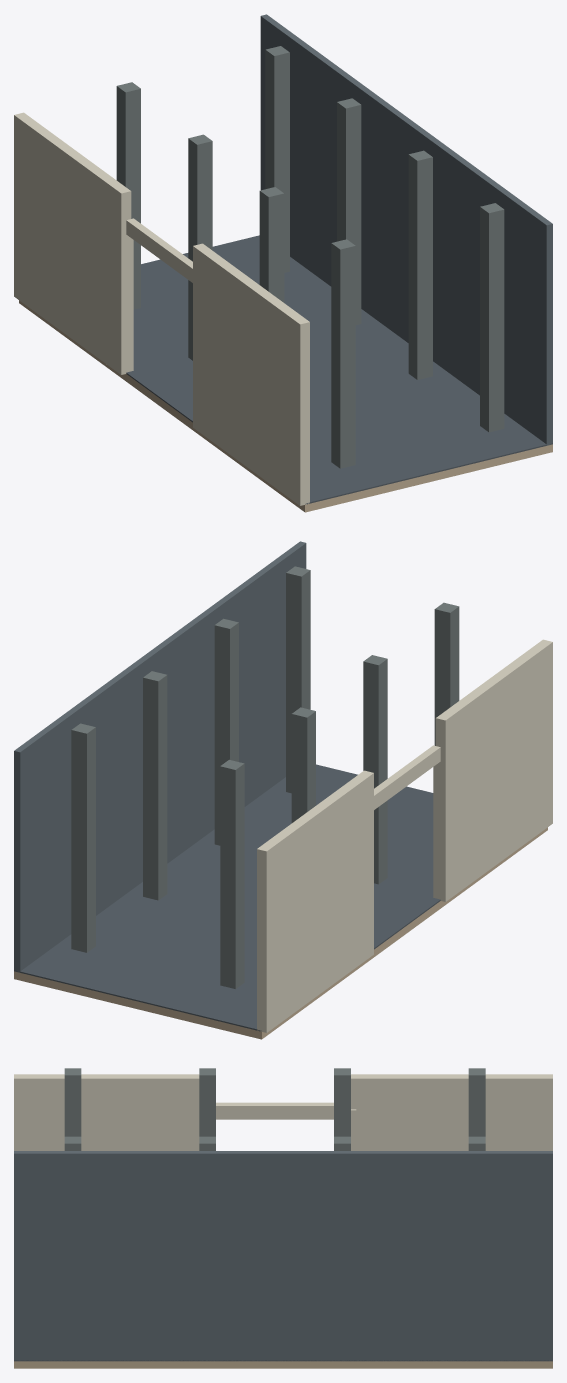
3 renders of one model, top to bottom at view 1: azimuth 30°, elevation 25°; view 2: azimuth 150°, elevation 25°; view 3: azimuth 270°, elevation 25°, orthographic. The views are drawn at different scales.
Parts seen in each view (by area): view 1: REAR_15, COURT_1, PORTW2_3, PORTW1_2, PILLAR_10, PILLAR_14, PILLAR_13, PILLAR_12, PILLAR_11, GROUND_0, PILLAR_7, PILLAR_8 (+3 smaller); view 2: REAR_15, COURT_1, PORTW1_2, PORTW2_3, PILLAR_7, PILLAR_11, PILLAR_12, PILLAR_9, PILLAR_13, PILLAR_14, GROUND_0, PILLAR_10 (+3 smaller); view 3: REAR_15, PORTW1_2, PORTW2_3, GROUND_0, GATE-lintel_6, PILLAR_7, PILLAR_10, PILLAR_8, PILLAR_9, COURT_1.
Part boxes in pixels (x1,y1,x2,y2): REAR_15: (260,14,552,445); COURT_1: (126,235,552,504); PORTW2_3: (193,243,309,505); PORTW1_2: (14,112,131,374); PILLAR_10: (331,239,355,468); PILLAR_14: (480,203,504,432); PILLAR_13: (408,150,432,379); PILLAR_12: (337,98,361,324); PILLAR_11: (265,46,289,272); GROUND_0: (19,300,552,512); PILLAR_7: (116,82,140,309); PILLAR_8: (188,134,212,360); REAR_15: (14,541,306,972); COURT_1: (14,764,440,1031); PORTW1_2: (257,770,373,1032); PORTW2_3: (435,639,552,901); PILLAR_7: (220,759,244,988); PILLAR_11: (71,723,95,952); PILLAR_12: (143,671,167,900); PILLAR_9: (363,655,387,884); PILLAR_13: (214,618,238,845); PILLAR_14: (286,566,310,793); GROUND_0: (14,827,547,1039); PILLAR_10: (434,602,459,745); REAR_15: (14,1151,552,1361); PORTW1_2: (351,1074,552,1150); PORTW2_3: (14,1074,199,1150); GROUND_0: (14,1361,552,1368); GATE-lintel_6: (216,1102,333,1119); PILLAR_7: (468,1068,485,1136); PILLAR_10: (64,1068,81,1136); PILLAR_8: (334,1068,350,1136); PILLAR_9: (199,1068,215,1136); COURT_1: (14,1360,552,1361).
Bounding box in the file's own units: 4.08 × 3.52 × 8.
